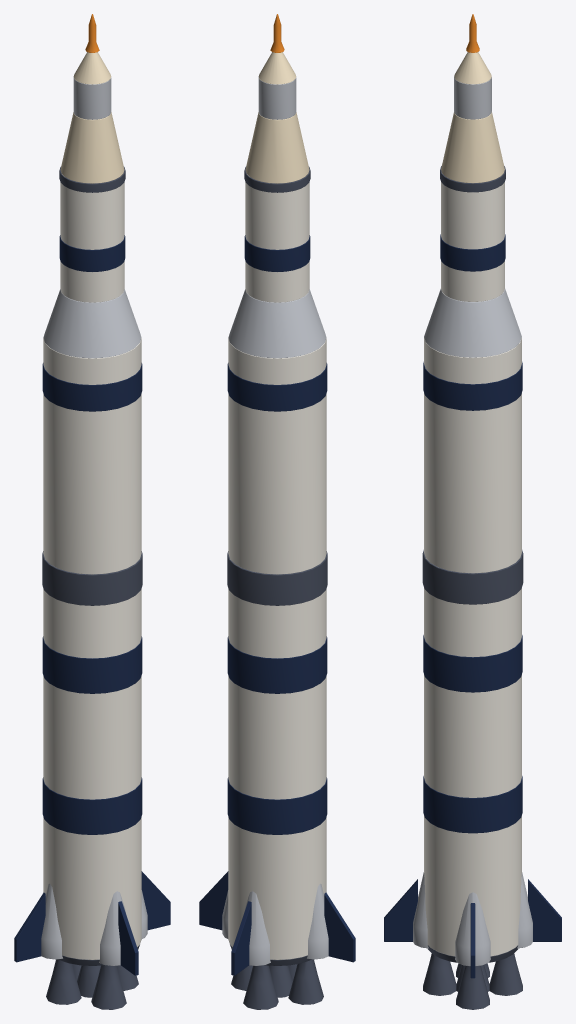
The model's file is Ship_RocketLarge.glb.
The picture shows the model from 3 angles, left to right: view 1: azimuth 30°, elevation 25°; view 2: azimuth 150°, elevation 25°; view 3: azimuth 270°, elevation 25°; orthographic projection.
Parts seen in each view (by area): view 1: Ship_RocketLarge.Stage1, Ship_RocketLarge.Stage2, Ship_RocketLarge.Stage3, Ship_RocketLarge.Taper, Ship_RocketLarge.Band1, Ship_RocketLarge.Band2, Ship_RocketLarge.Adapter, Ship_RocketLarge.Fins, Ship_RocketLarge.Engines, Ship_RocketLarge.Ring1, Ship_RocketLarge.Band3, Ship_RocketLarge.Fairings (+4 smaller); view 2: Ship_RocketLarge.Stage1, Ship_RocketLarge.Stage2, Ship_RocketLarge.Stage3, Ship_RocketLarge.Taper, Ship_RocketLarge.Band1, Ship_RocketLarge.Band2, Ship_RocketLarge.Adapter, Ship_RocketLarge.Fins, Ship_RocketLarge.Engines, Ship_RocketLarge.Ring1, Ship_RocketLarge.Band3, Ship_RocketLarge.Fairings (+4 smaller); view 3: Ship_RocketLarge.Stage1, Ship_RocketLarge.Stage2, Ship_RocketLarge.Stage3, Ship_RocketLarge.Taper, Ship_RocketLarge.Band2, Ship_RocketLarge.Band1, Ship_RocketLarge.Engines, Ship_RocketLarge.Adapter, Ship_RocketLarge.Ring1, Ship_RocketLarge.Fairings, Ship_RocketLarge.Fins, Ship_RocketLarge.Band3 (+4 smaller).
Part boxes in pixels (x1,y1,x2,y2): Ship_RocketLarge.Stage1: [43, 589, 141, 959]; Ship_RocketLarge.Stage2: [43, 338, 141, 574]; Ship_RocketLarge.Stage3: [60, 182, 124, 302]; Ship_RocketLarge.Taper: [43, 289, 141, 358]; Ship_RocketLarge.Band1: [42, 777, 142, 834]; Ship_RocketLarge.Band2: [42, 636, 142, 693]; Ship_RocketLarge.Adapter: [60, 112, 124, 183]; Ship_RocketLarge.Fins: [14, 871, 170, 975]; Ship_RocketLarge.Engines: [46, 959, 138, 1009]; Ship_RocketLarge.Ring1: [42, 551, 142, 605]; Ship_RocketLarge.Band3: [42, 363, 142, 411]; Ship_RocketLarge.Fairings: [41, 883, 147, 965]; Ship_RocketLarge.Stage1: [228, 589, 326, 959]; Ship_RocketLarge.Stage2: [228, 338, 326, 574]; Ship_RocketLarge.Stage3: [245, 182, 309, 302]; Ship_RocketLarge.Taper: [228, 289, 326, 358]; Ship_RocketLarge.Band1: [227, 777, 327, 834]; Ship_RocketLarge.Band2: [227, 636, 327, 693]; Ship_RocketLarge.Adapter: [245, 112, 309, 183]; Ship_RocketLarge.Fins: [199, 871, 355, 975]; Ship_RocketLarge.Engines: [231, 959, 323, 1009]; Ship_RocketLarge.Ring1: [227, 551, 327, 605]; Ship_RocketLarge.Band3: [227, 363, 327, 411]; Ship_RocketLarge.Fairings: [222, 883, 328, 965]; Ship_RocketLarge.Stage1: [424, 588, 521, 956]; Ship_RocketLarge.Stage2: [424, 337, 521, 573]; Ship_RocketLarge.Stage3: [441, 182, 504, 301]; Ship_RocketLarge.Taper: [424, 289, 521, 357]; Ship_RocketLarge.Band2: [423, 635, 522, 692]; Ship_RocketLarge.Band1: [423, 776, 522, 833]; Ship_RocketLarge.Engines: [423, 953, 522, 1009]; Ship_RocketLarge.Adapter: [441, 112, 504, 183]; Ship_RocketLarge.Ring1: [422, 550, 523, 604]; Ship_RocketLarge.Fairings: [413, 872, 532, 966]; Ship_RocketLarge.Fins: [384, 879, 561, 978]; Ship_RocketLarge.Band3: [423, 362, 522, 410].
Size of the model in its own units: 18.3 by 111 by 18.3.
1 material, 1 textured.
